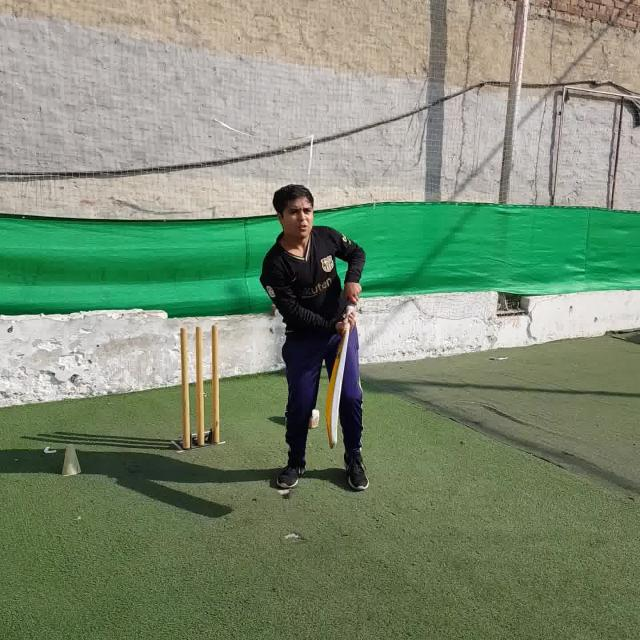bat: (328, 296, 356, 449)
